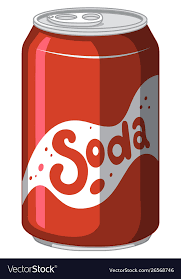can: (22, 5, 162, 249)
